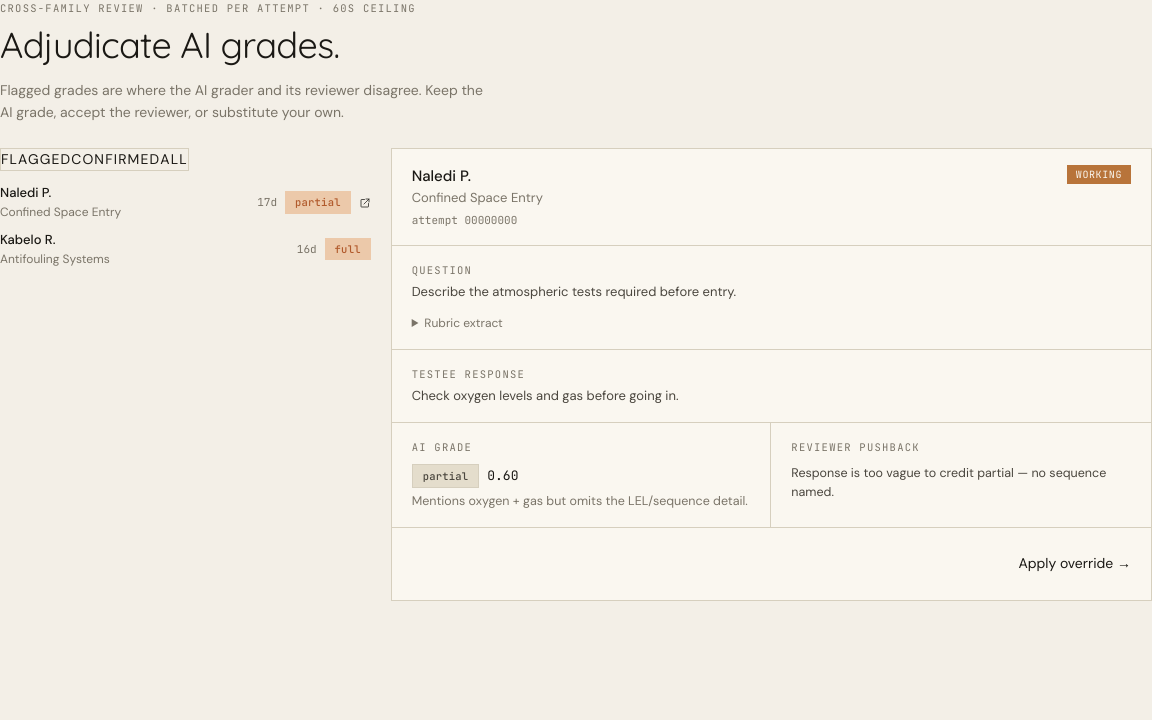
Test: grade-review queue — detail + override › substitute without a tile is blocked with a root error and no network
This screenshot has width=1152, height=720.
Expected: the element with test id "review-detail" is shown, [391,148,1151,601]
Click the button with test id "review-apply-override": x=1075, y=564 [1018,544,1131,584]
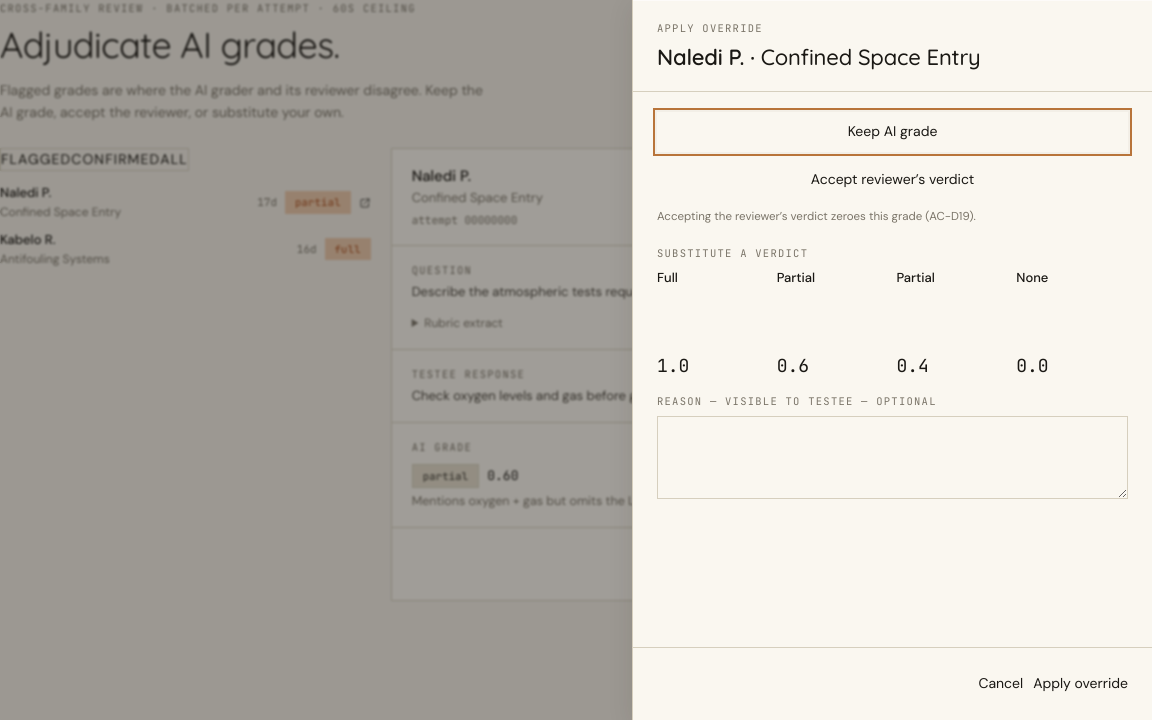
Click the button with test id "override-apply": x=1081, y=684 [1033,664,1128,704]
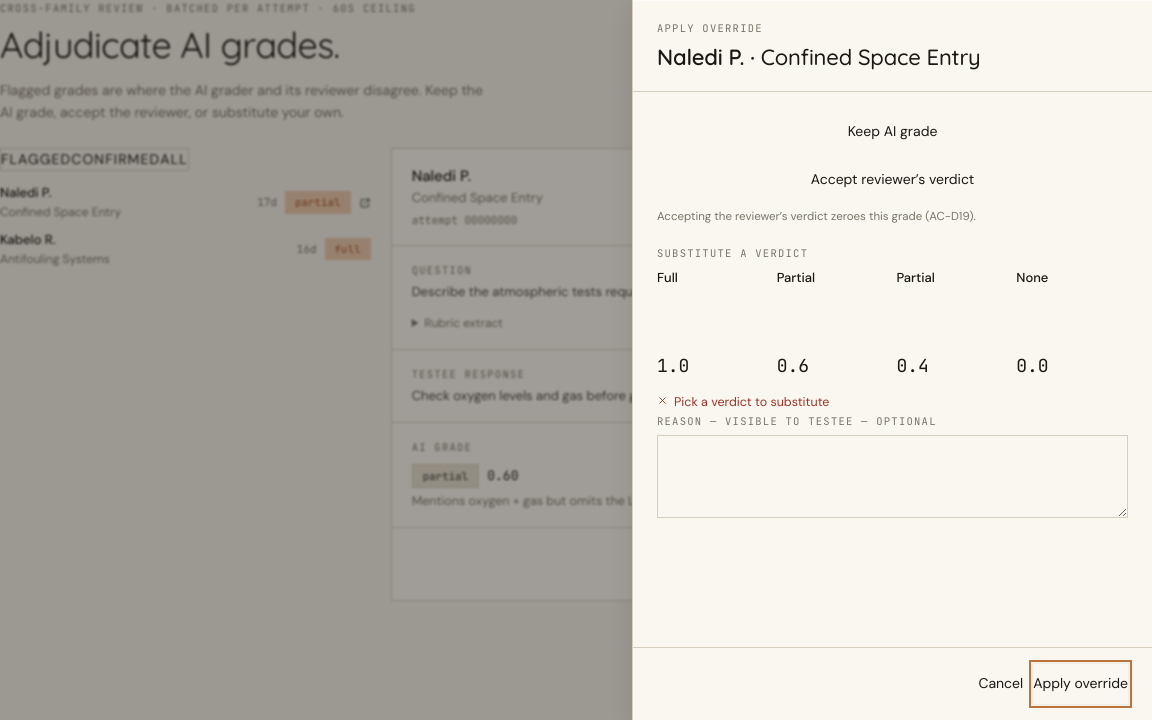
Now the text "Pick a verdict to substitute" is shown, box [674,394,830,413]
